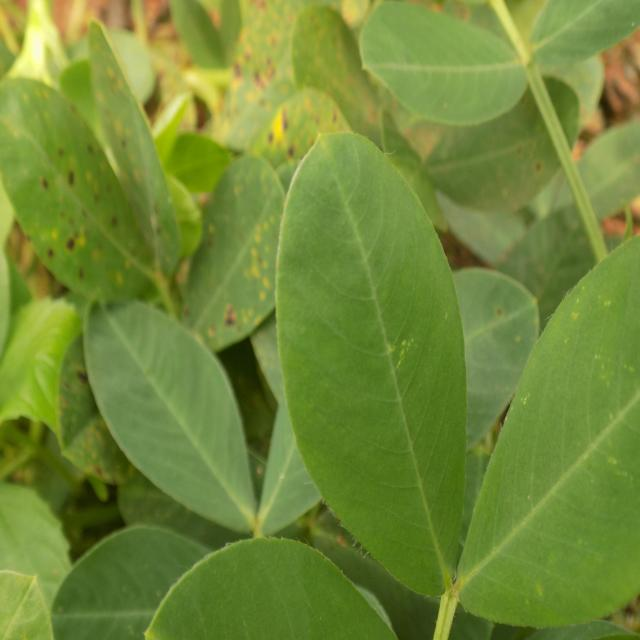Ground nut_healthy: (278, 126, 471, 592), (84, 287, 260, 541), (339, 265, 543, 478), (360, 0, 529, 128)
Ground nut_tikka leaf spot: (0, 70, 157, 307)
